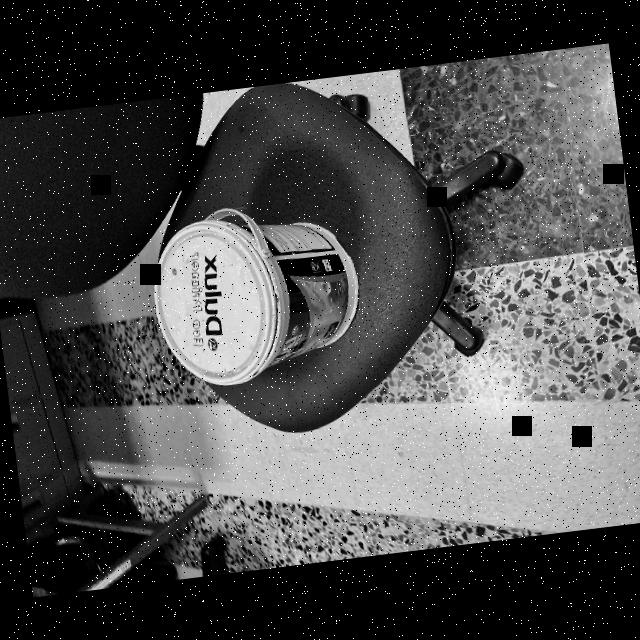paint_bucket: (140, 185, 387, 418)
